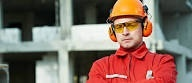safety_goggles: (107, 17, 150, 36)
